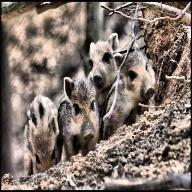boar: (51, 71, 127, 160), (23, 70, 70, 161), (115, 43, 176, 109), (91, 19, 133, 96)
